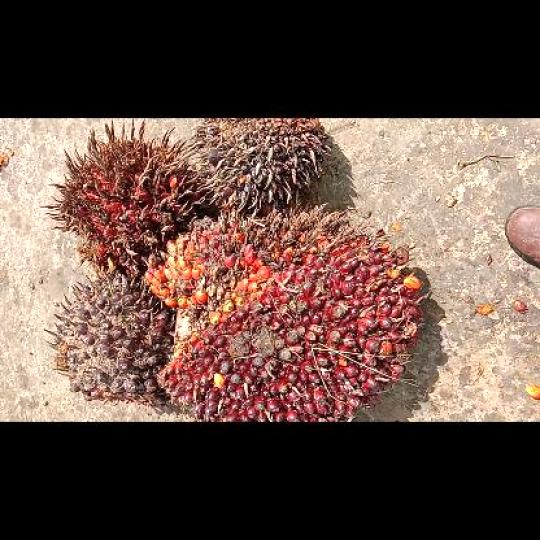kurang masak: (47, 273, 168, 407)
masak: (144, 210, 425, 421)
terlalu masak: (43, 118, 198, 274)
